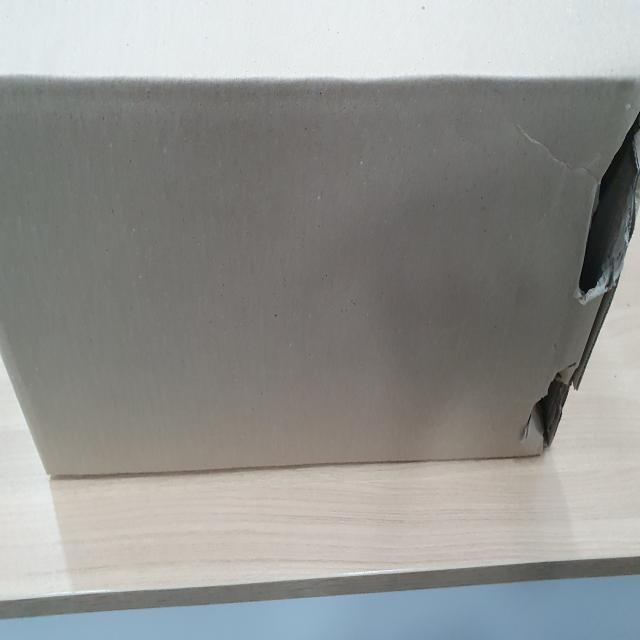hole: (574, 94, 640, 296), (521, 364, 578, 454)
